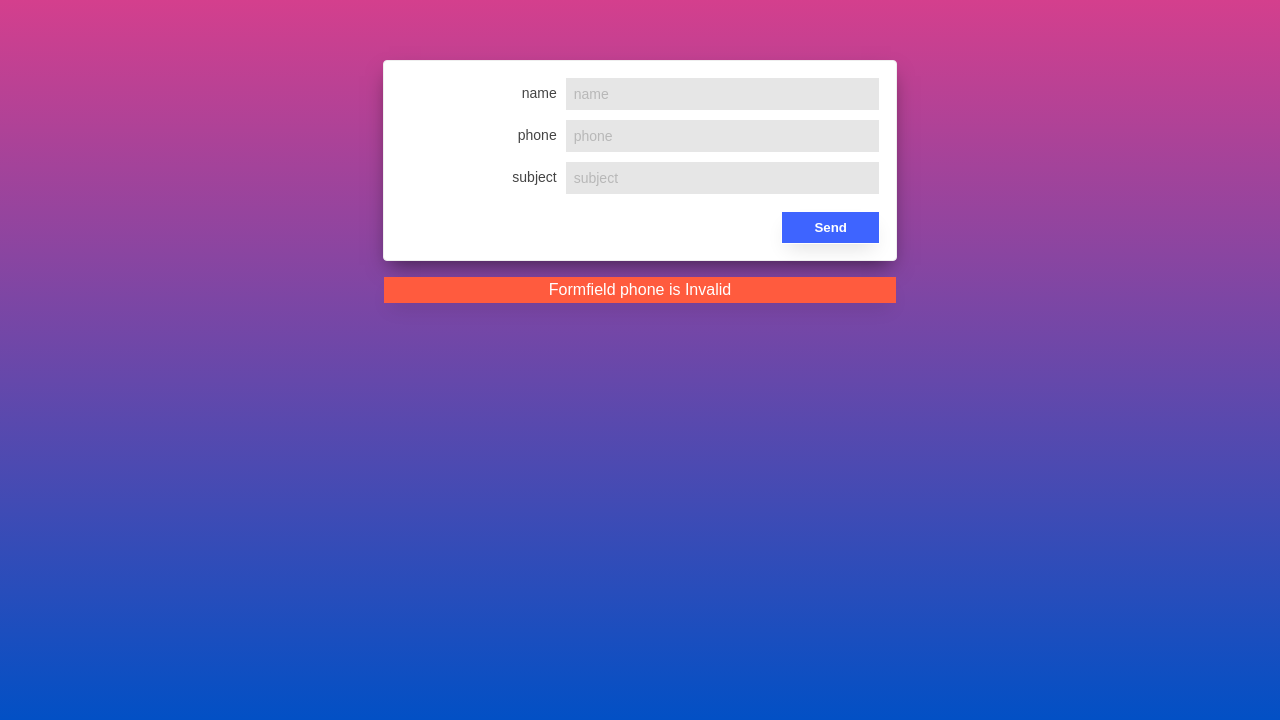
Test case: <App /> › send data to an api
The width and height of the screenshot is (1280, 720).
In the field labelled "phone": point(722, 136) x1=565 y1=119 x2=880 y2=153, type "335577"
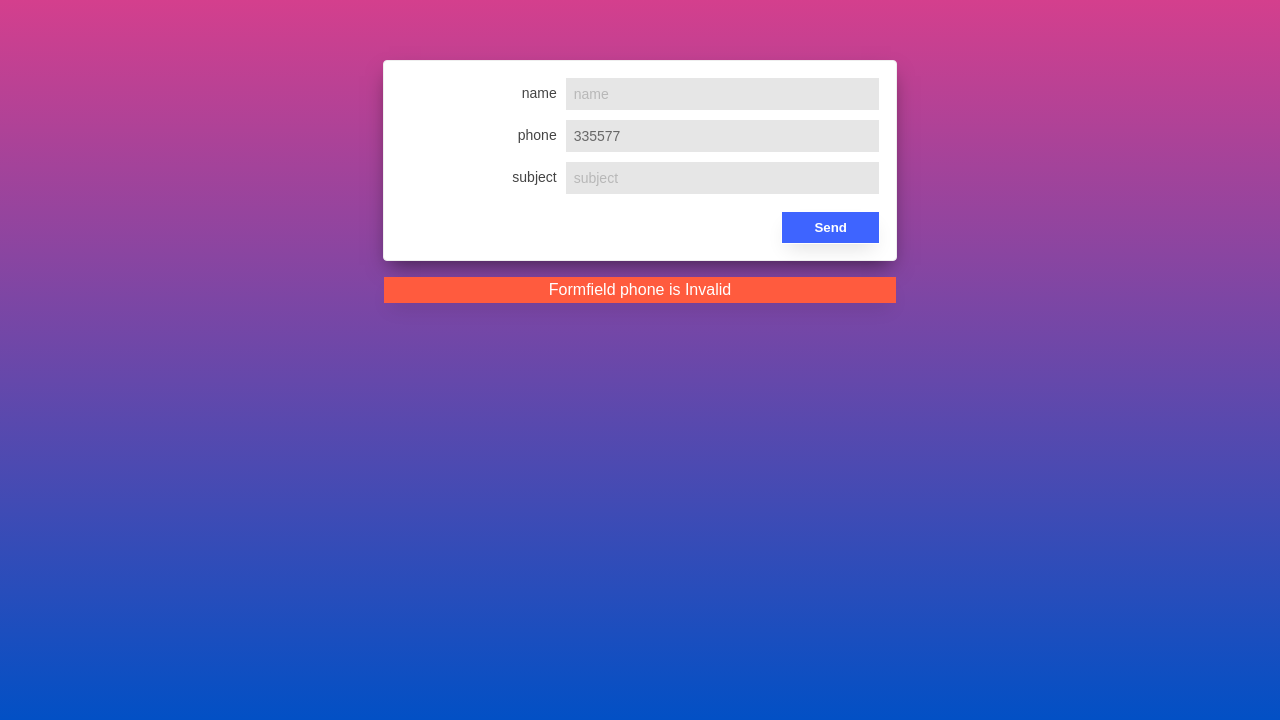
In the field labelled "subject": point(722, 178) x1=565 y1=161 x2=880 y2=195, type "any text"
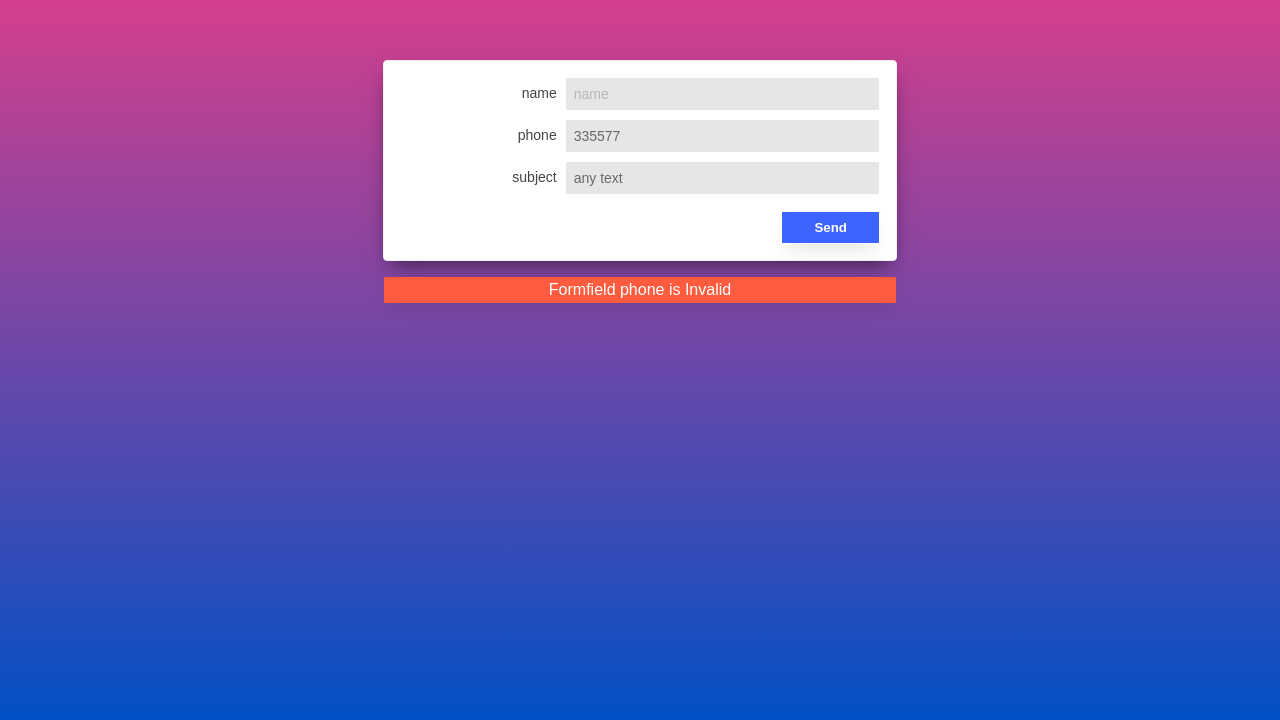
Click the button "Send": point(831, 228) x1=781 y1=211 x2=880 y2=244
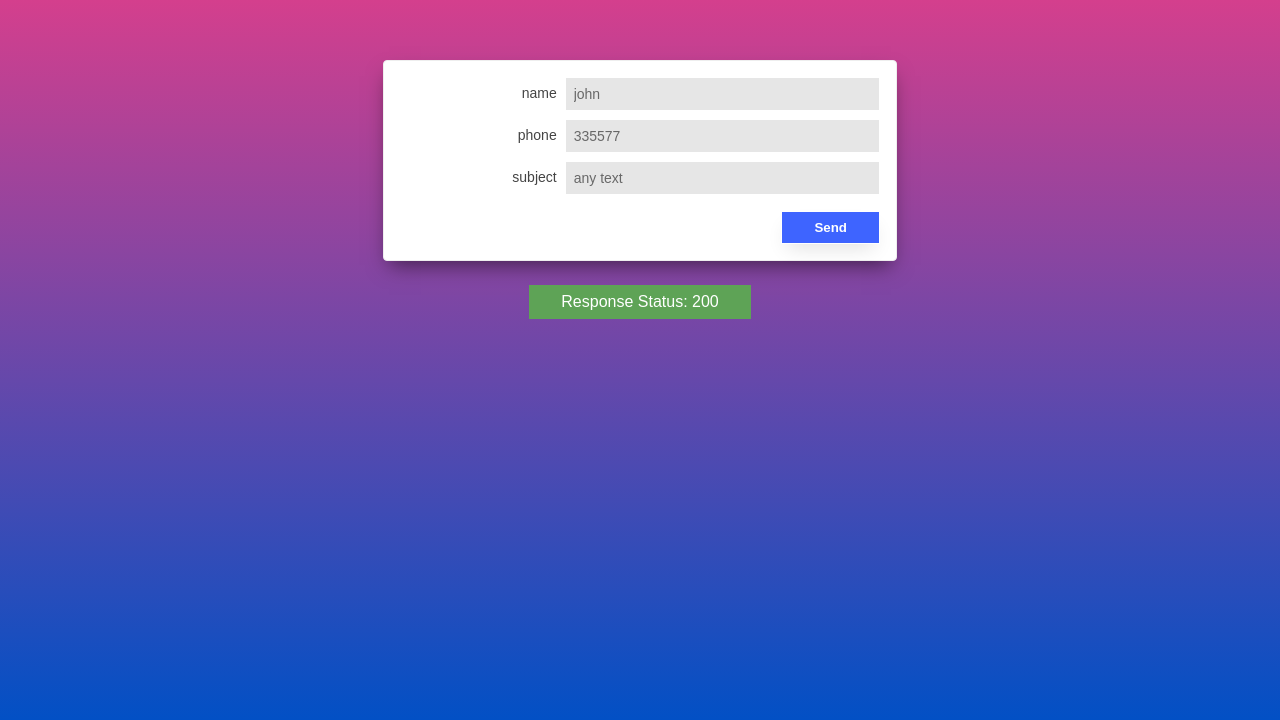
Expected: the text "Response Status: 200" is shown, x1=529 y1=285 x2=751 y2=319
